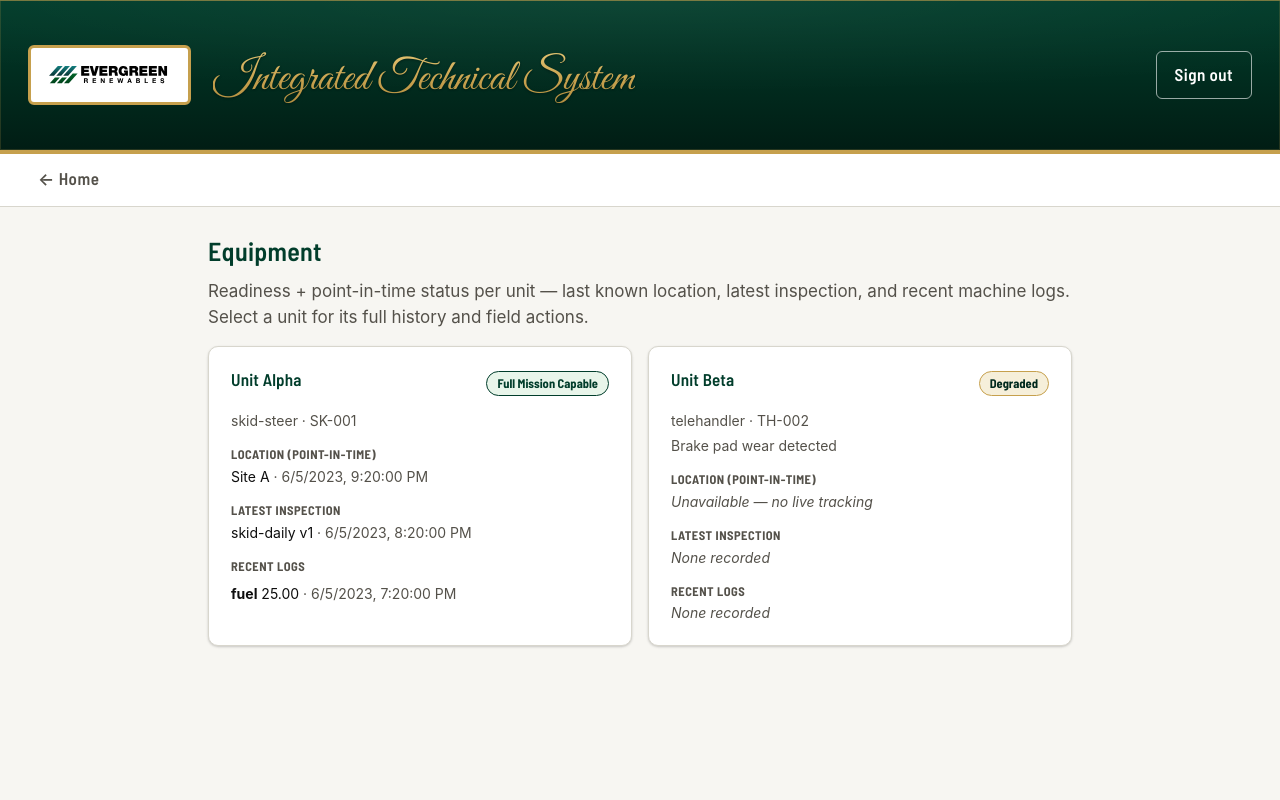
Test: FieldOpsEquipment — detail view › location section renders the location row
Click the button with class "dash-card--click" that starts with "Unit Alpha".
click(266, 379)  # box [208,346,632,646]
(page scrolled)
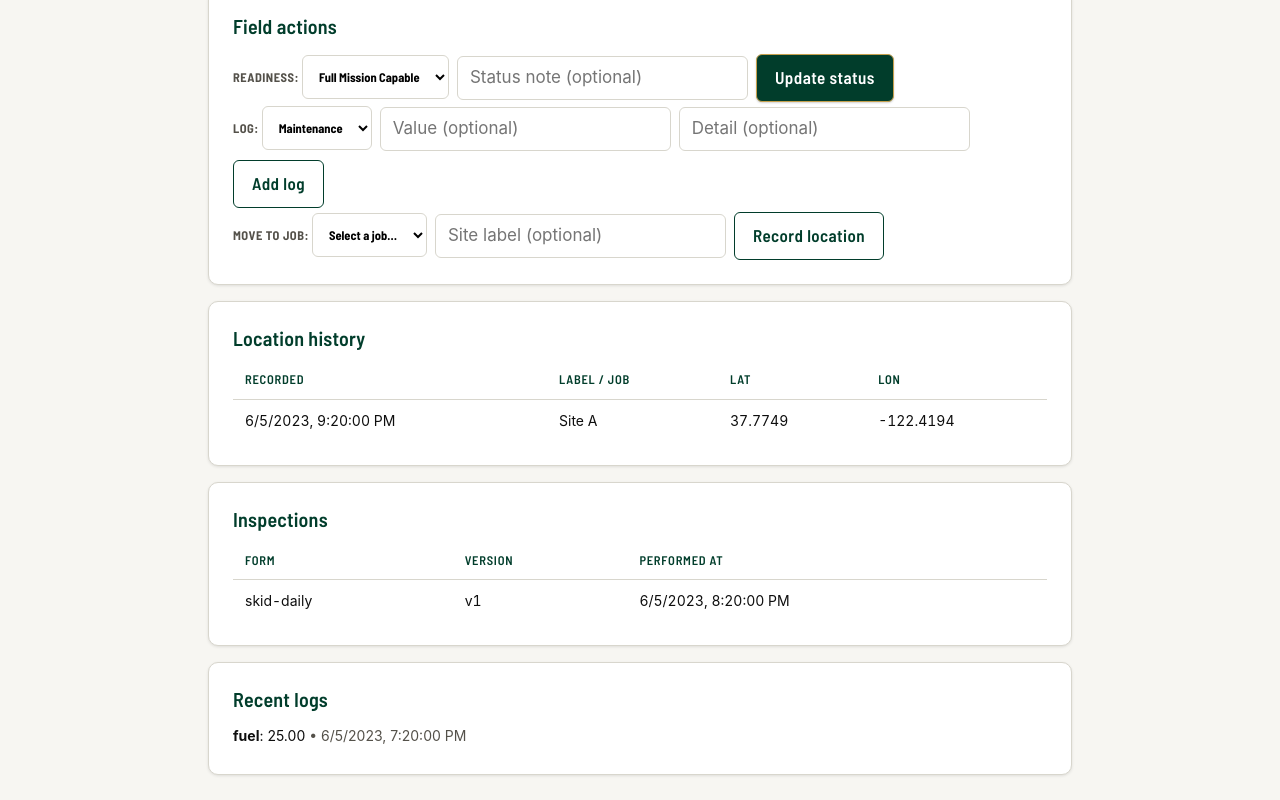
Check: the text "Site A" is shown, box [547,399,718,440]
Check: the table with class "dash-table" that starts with "Recorded" is shown, box [233,360,1047,440]
